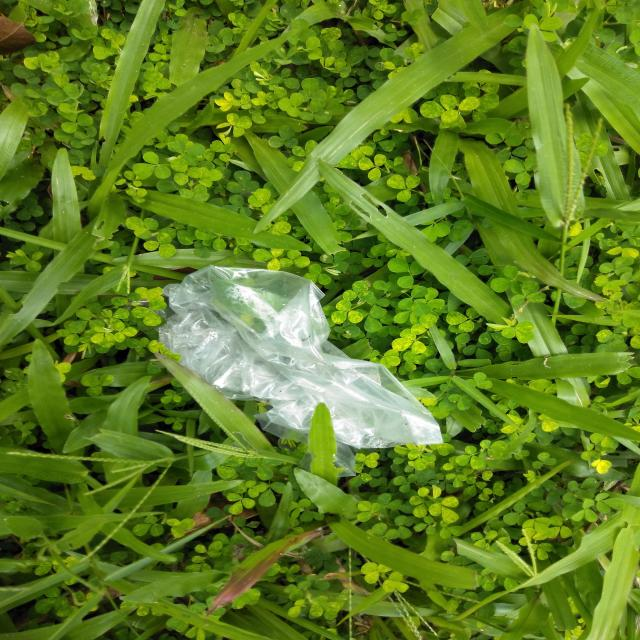litter: (155, 262, 443, 448)
